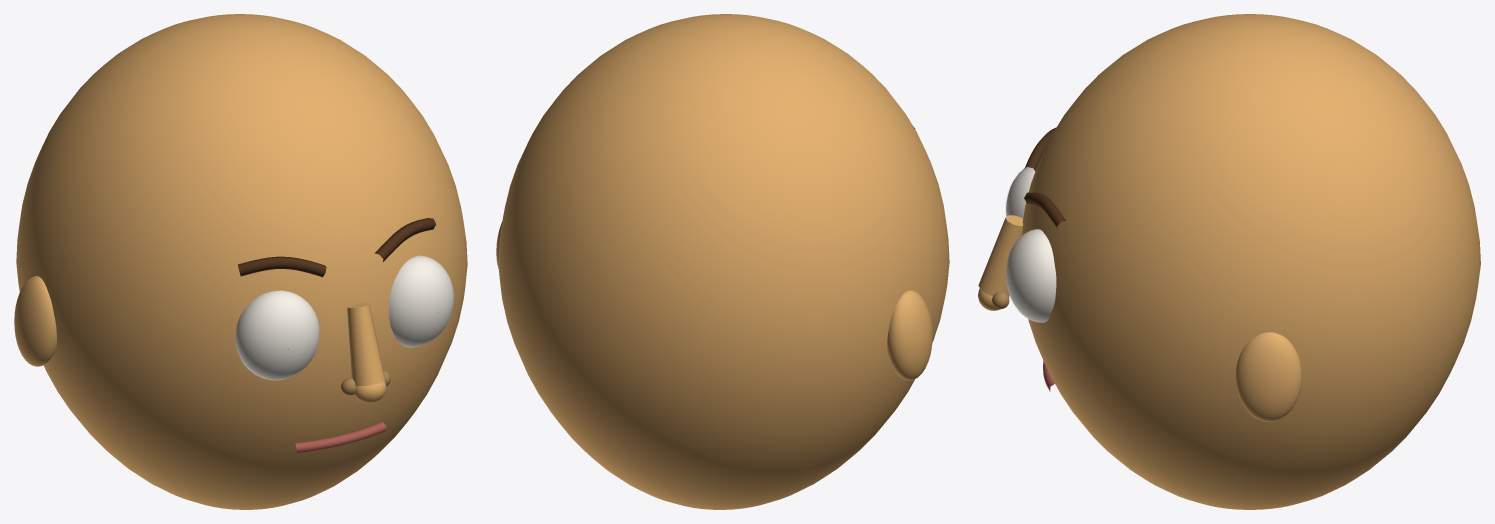
File: 11-blancs.glb
3 views of the same model, side by side, from view 1: azimuth 30°, elevation 25°; view 2: azimuth 150°, elevation 25°; view 3: azimuth 270°, elevation 25° (orthographic).
Bounding box in the file's own units: 0.3087 × 0.321 × 0.3166.
